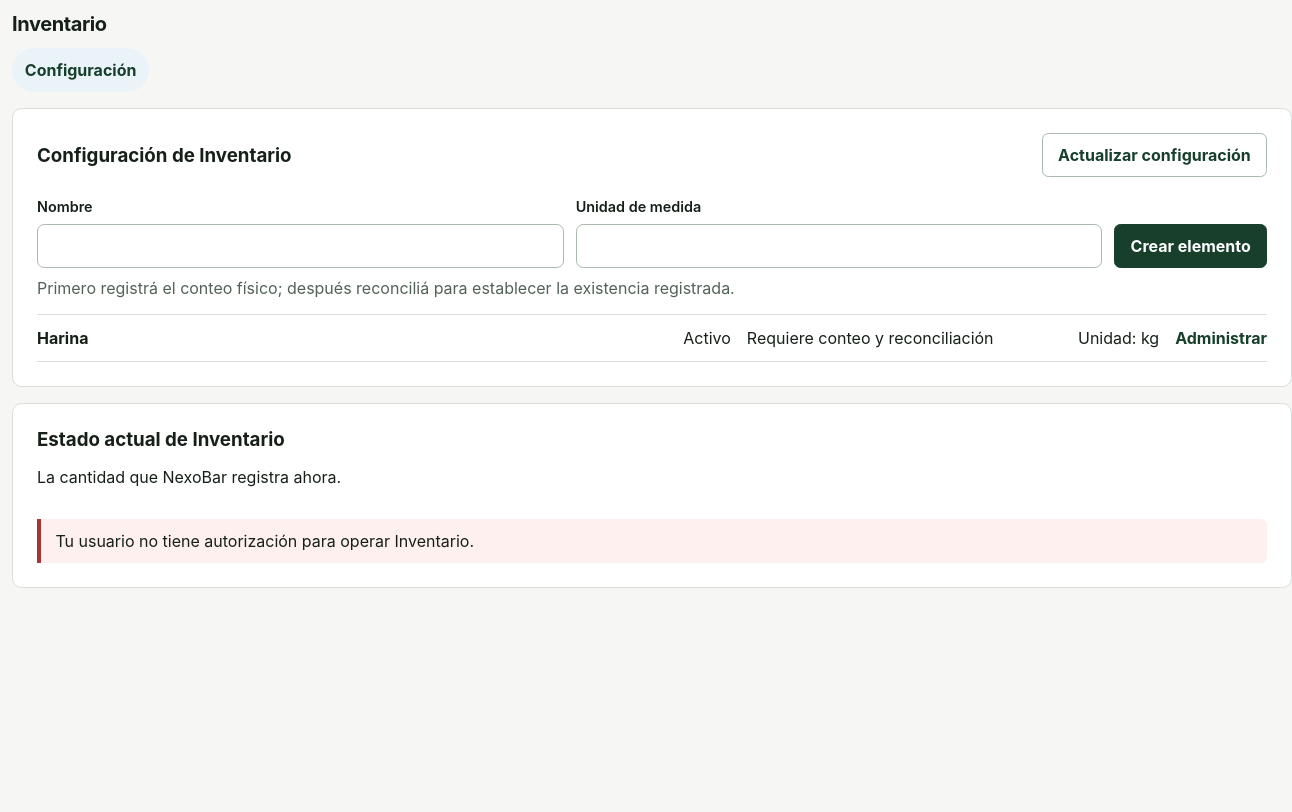
Scenario: InventoryPanel › treats 409 as known, clears the intent and refreshes Configuration
Expected: the button "Crear elemento" is shown, left=1114, top=224, right=1267, bottom=268
Step 1. Type "Harina" into the field labelled "Nombre" → (300, 246), box left=37, top=224, right=564, bottom=268
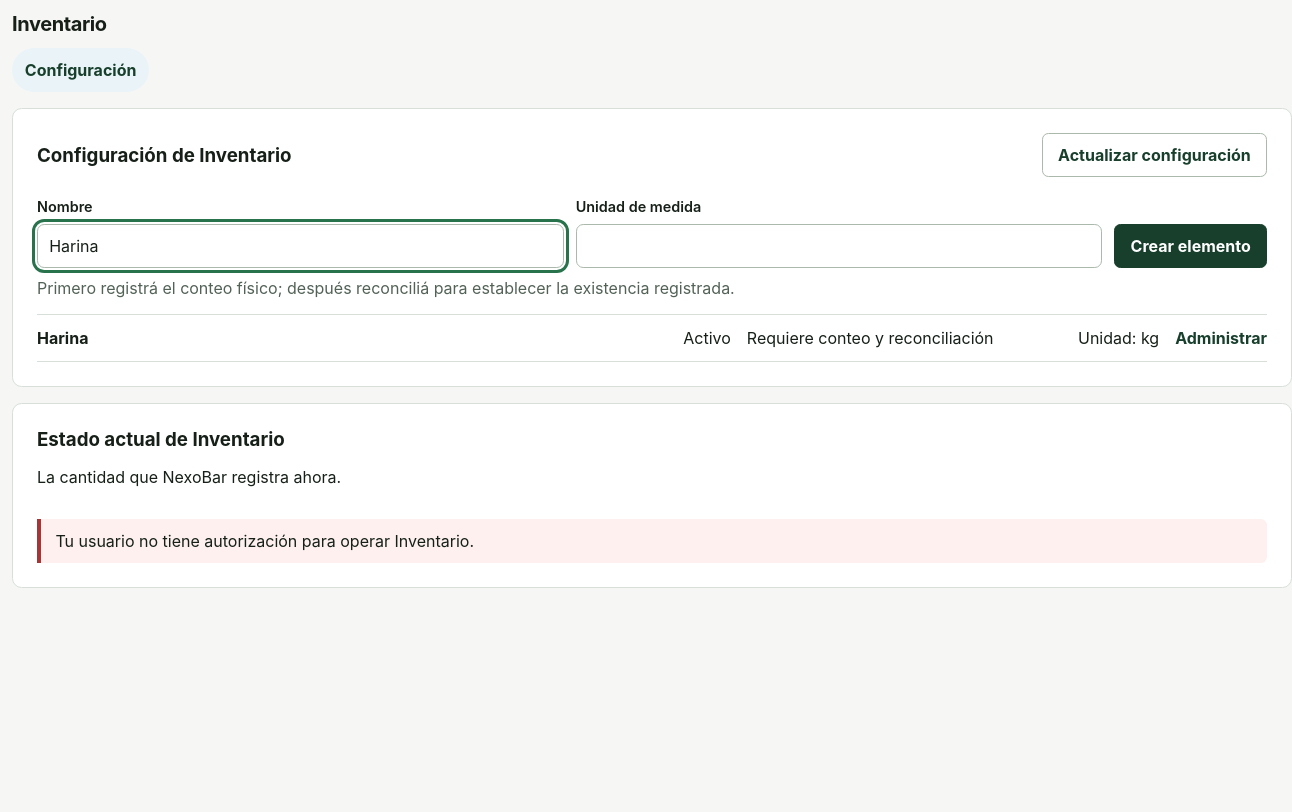
Step 2. Type "kg" into the field labelled "Unidad de medida" → (839, 246), box left=576, top=224, right=1102, bottom=268
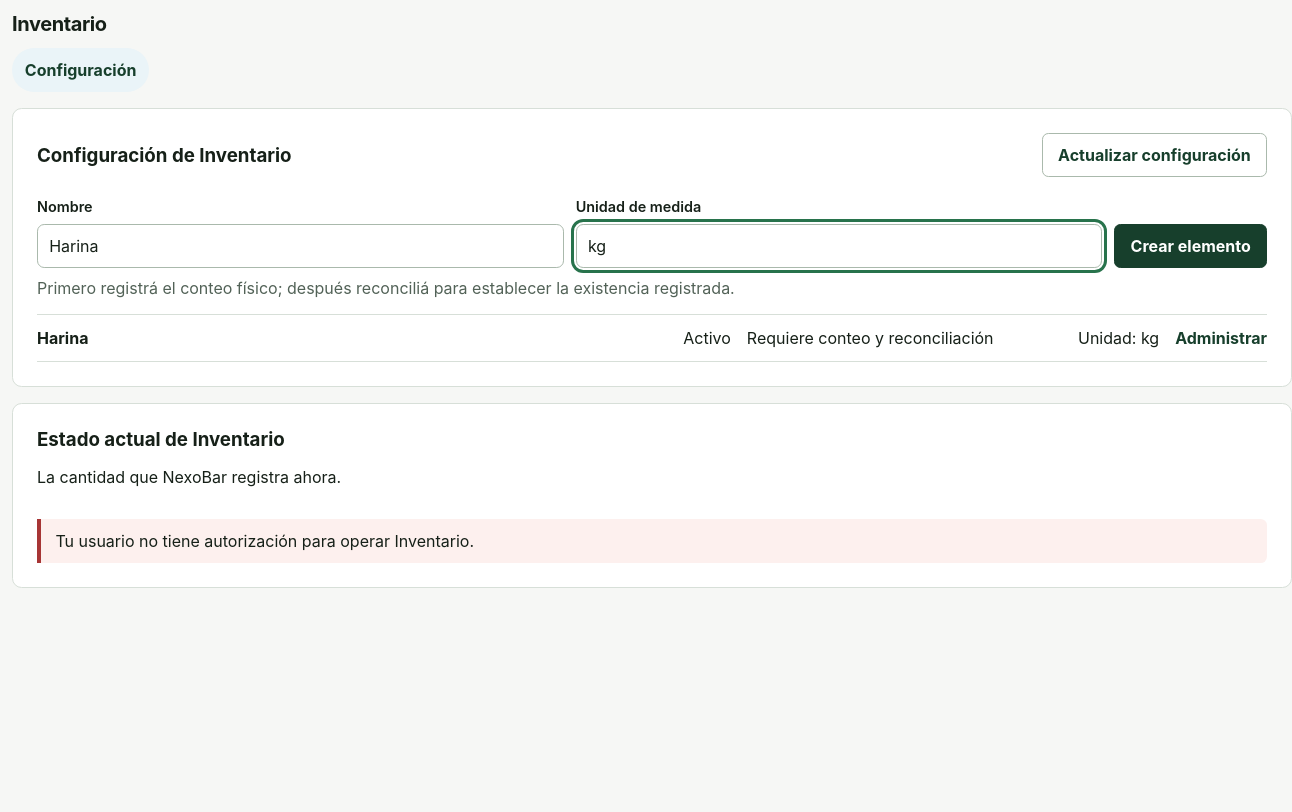
Step 3. Click the button "Crear elemento" → (1191, 246), box left=1114, top=224, right=1267, bottom=268
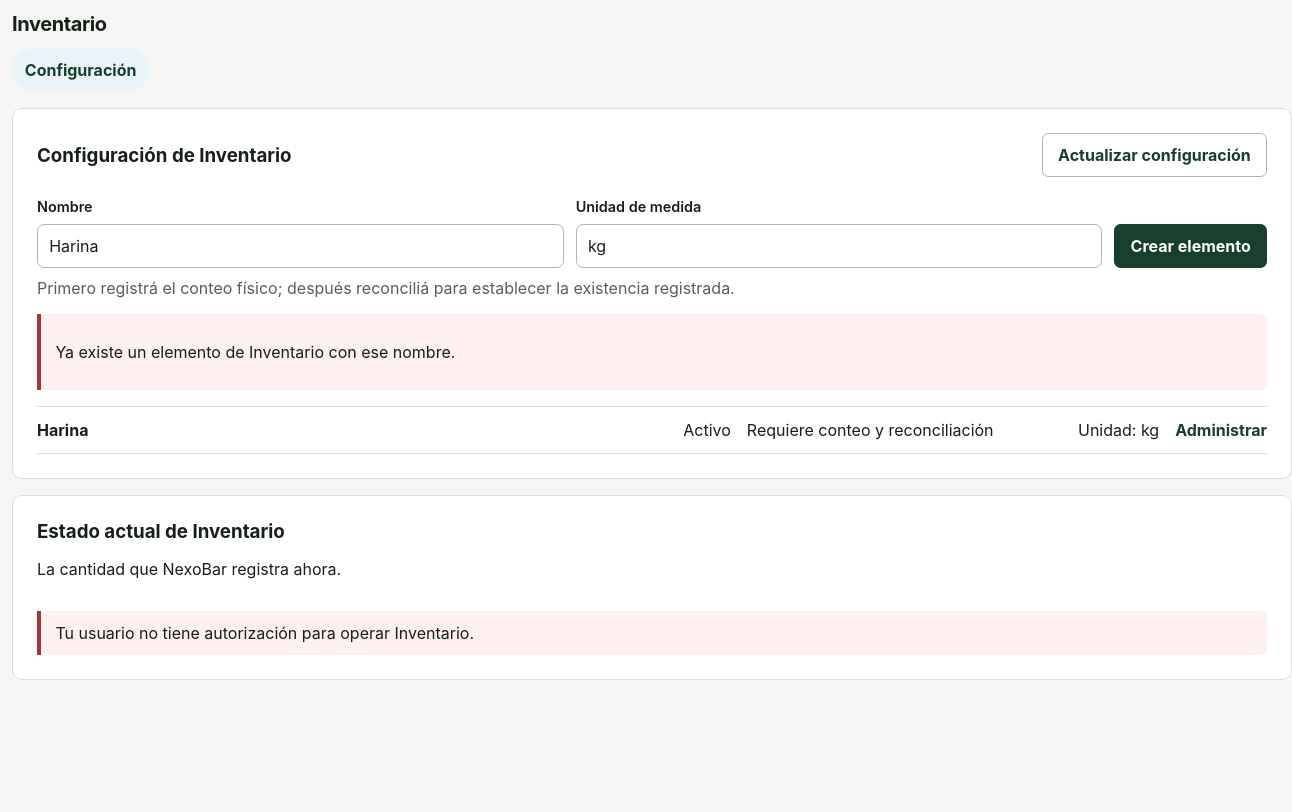
Result: the text "Ya existe un elemento de Inventario con ese nombre." is shown at left=55, top=342, right=455, bottom=362
